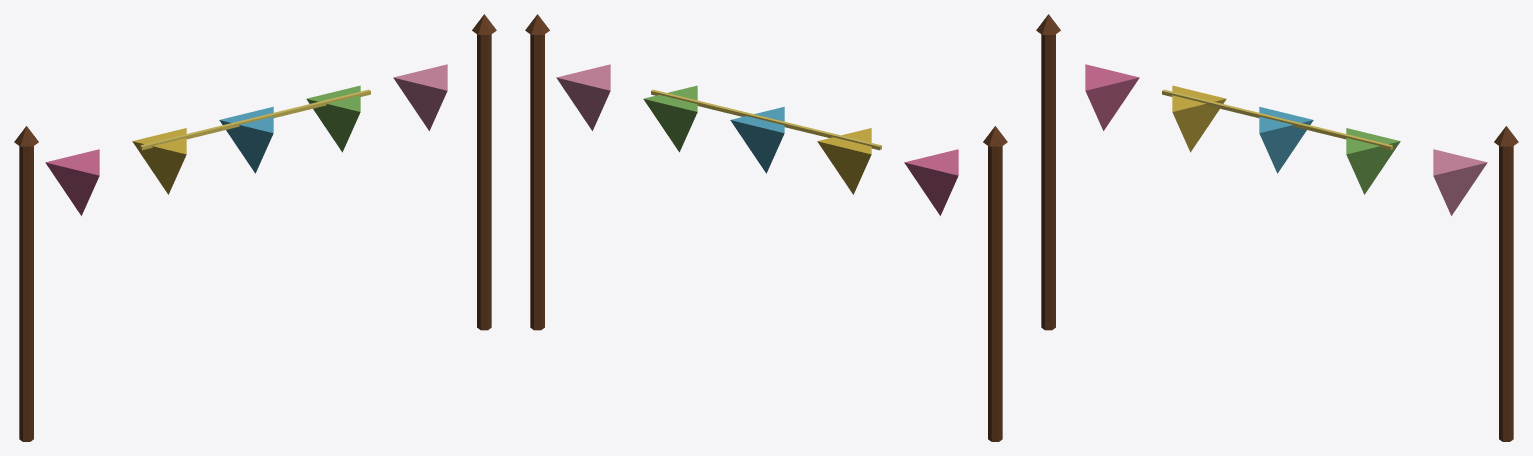
Rendered from lantern.glb.
3 renders of one model, left to right at view 1: azimuth 30°, elevation 25°; view 2: azimuth 150°, elevation 25°; view 3: azimuth 330°, elevation 25°, orthographic.
Parts seen in each view (by area): view 1: Cone; view 2: Cone; view 3: Cone.
Boxes of the visible parts, left/top/right/bottom form: Cone: left=14, top=14, right=496, bottom=441; Cone: left=525, top=14, right=1007, bottom=441; Cone: left=1036, top=14, right=1518, bottom=441.
Bounding box in the file's own units: 1.67 × 1.05 × 0.165.
